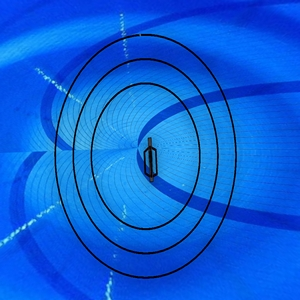circle: (54, 32, 238, 281)
submarine: (139, 135, 165, 184)
